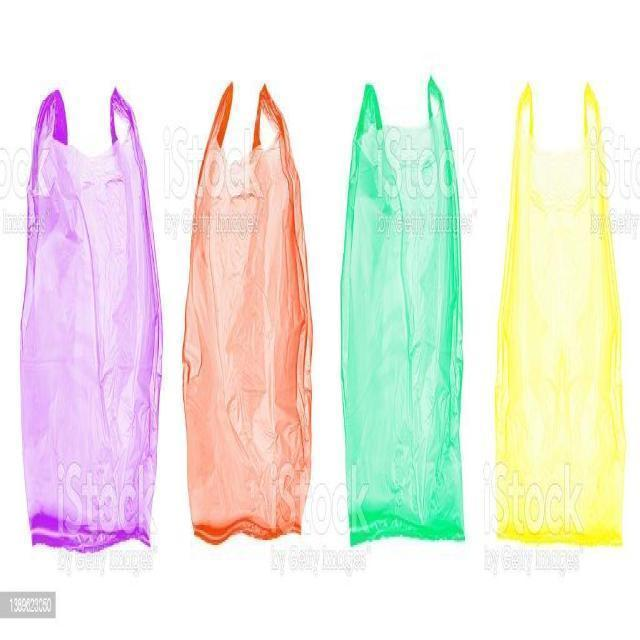Plastic_Bag: (179, 80, 314, 560)
